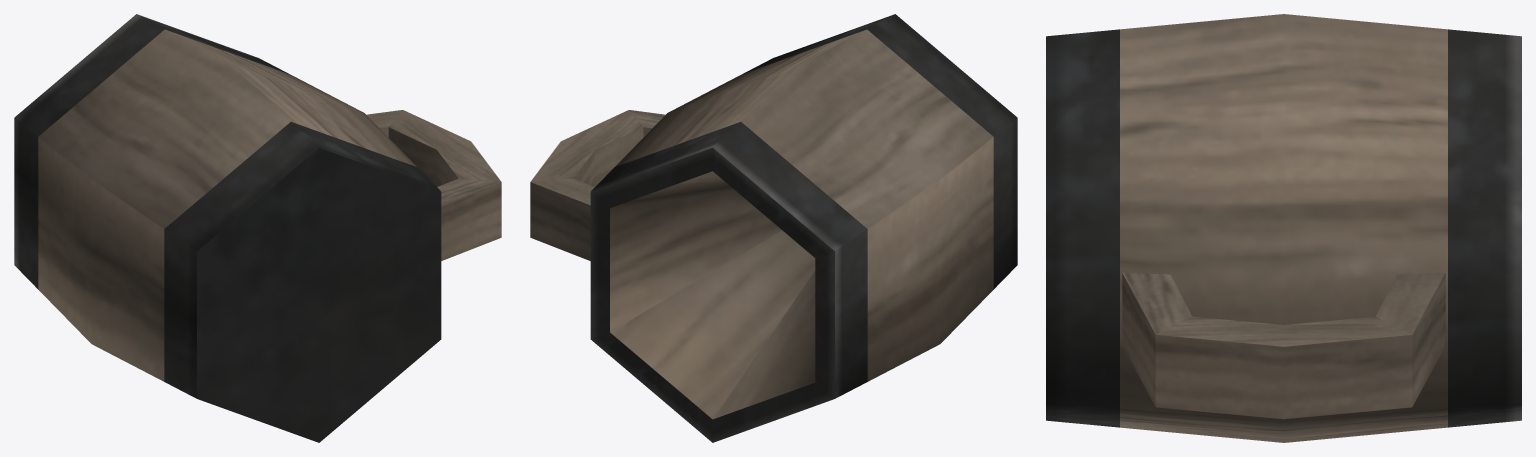
Rendered from Wood_Stein_A.fbx.
3 views of the same model, side by side, from view 1: azimuth 30°, elevation 25°; view 2: azimuth 150°, elevation 25°; view 3: azimuth 270°, elevation 25° (orthographic). The views are drawn at different scales.
Parts seen in each view (by area): view 1: Wood_Stein_A; view 2: Wood_Stein_A; view 3: Wood_Stein_A.
Part boxes in pixels (x1,y1,x2,y2): Wood_Stein_A: [14, 14, 501, 442]; Wood_Stein_A: [530, 14, 1017, 442]; Wood_Stein_A: [1046, 14, 1521, 442].
Bounding box in the file's own units: 0.3094 × 0.2567 × 0.258.
